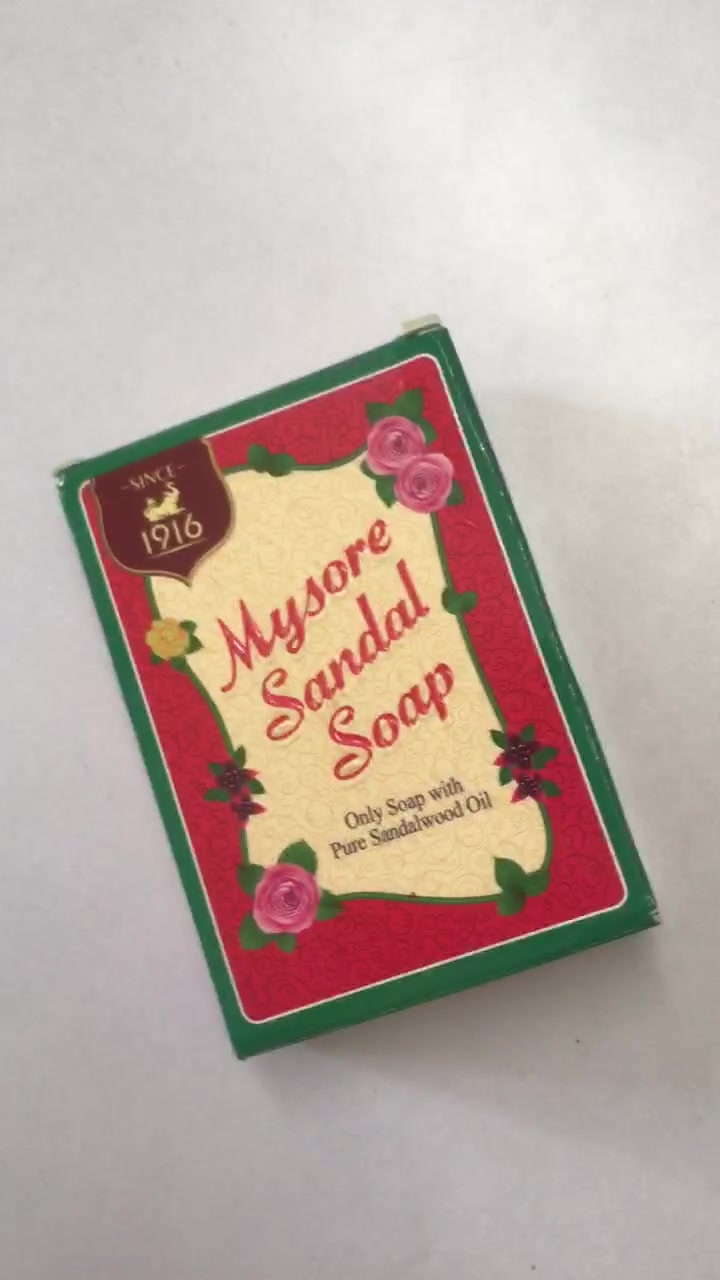mysore sandal soap: (59, 330, 662, 1062)
